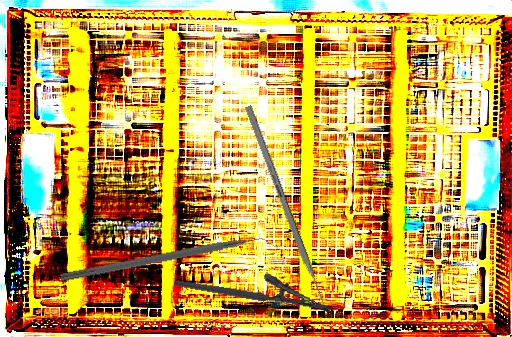Chopper: (60, 231, 279, 294)
Needle Holder: (173, 257, 339, 315)
Pusher: (243, 105, 333, 319)
